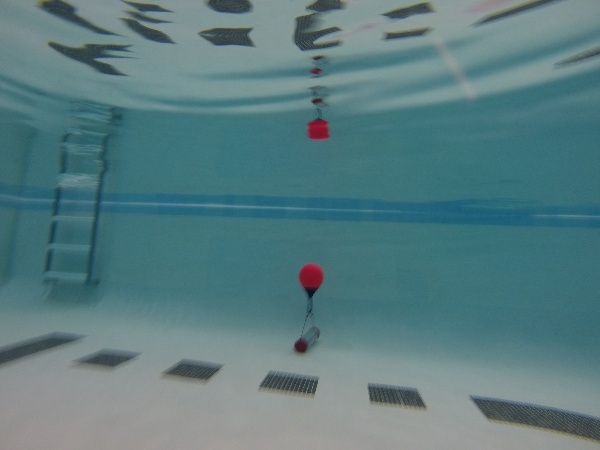buoy_red: (297, 260, 326, 299)
